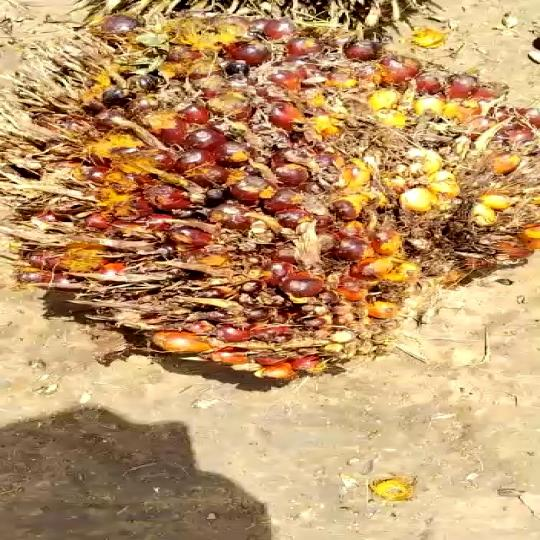masak: (0, 0, 540, 402)
